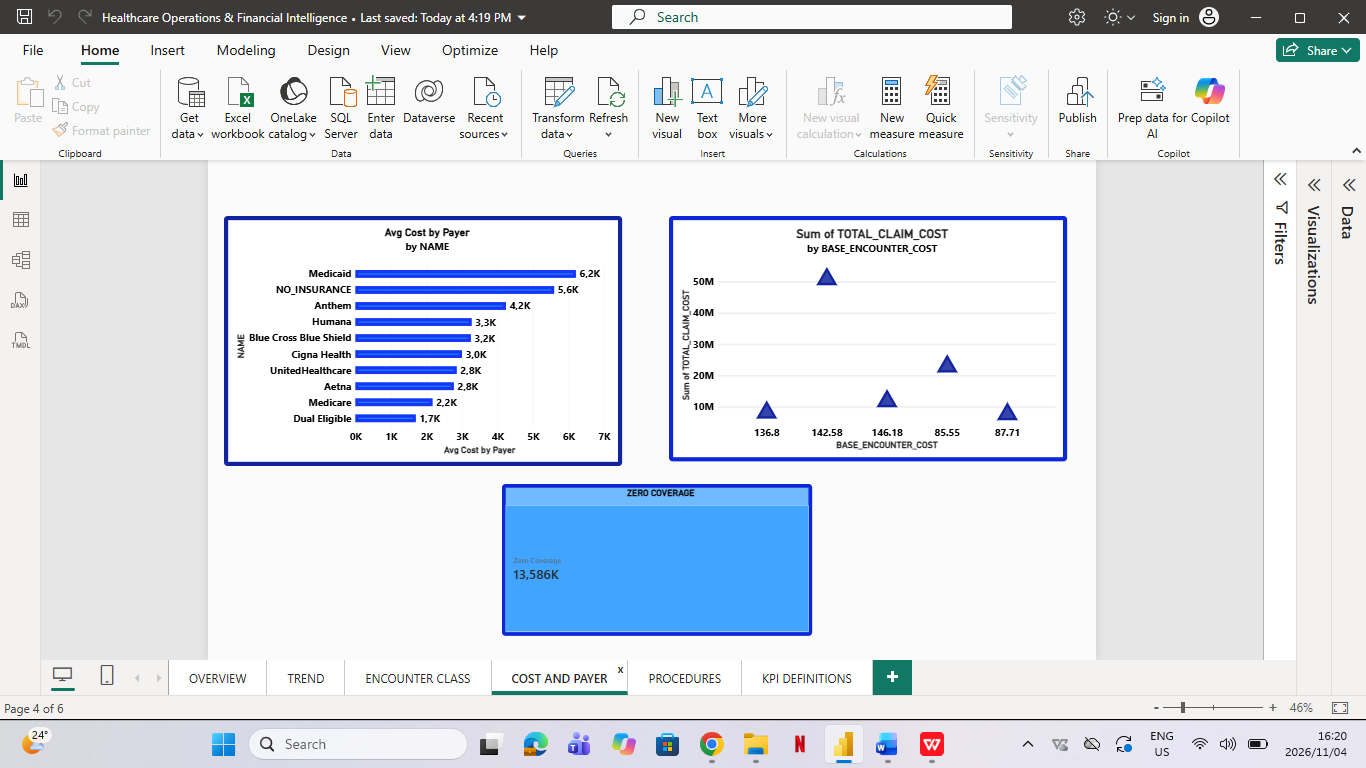

This screenshot's page, from the dashboard's own definition file:
{"tool":"powerbi","page":{"name":"COST AND PAYER","canvas":[1920,1080],"ordinal":3},"visuals":[{"type":"clusteredBarChart","fields":{"Category":["payers.NAME"],"Y":["encounters.Avg Cost by Payer"]},"box":[35,120,860,540],"z":0},{"type":"scatterChart","fields":{"X":["encounters.BASE_ENCOUNTER_COST"],"Y":["Sum(encounters.TOTAL_CLAIM_COST)"]},"box":[995,120,860,530],"z":1000},{"type":"cardVisual","title":"ZERO COVERAGE","fields":{"Data":["encounters.Zero Coverage"]},"box":[635,700,670,327.5],"z":2000}]}

Visuals, with their boxes on the page's 1920x1080 design canvas (x1, y1, x2, y2). These are canvas units, not pixel positions in the 1366x768 screenshot, which may show the page scaled, cropped or inside an application window:
clusteredBarChart - payers.NAME x encounters.Avg Cost by Payer: detection(35, 120, 895, 660)
scatterChart - encounters.BASE_ENCOUNTER_COST x Sum(encounters.TOTAL_CLAIM_COST): detection(995, 120, 1855, 650)
"ZERO COVERAGE" cardVisual: detection(635, 700, 1305, 1028)
